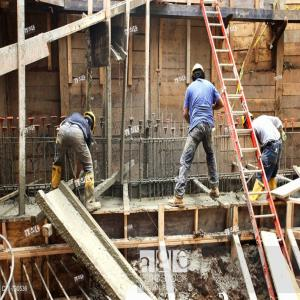yellow: (84, 111, 97, 134), (193, 63, 206, 83), (242, 112, 253, 132)
